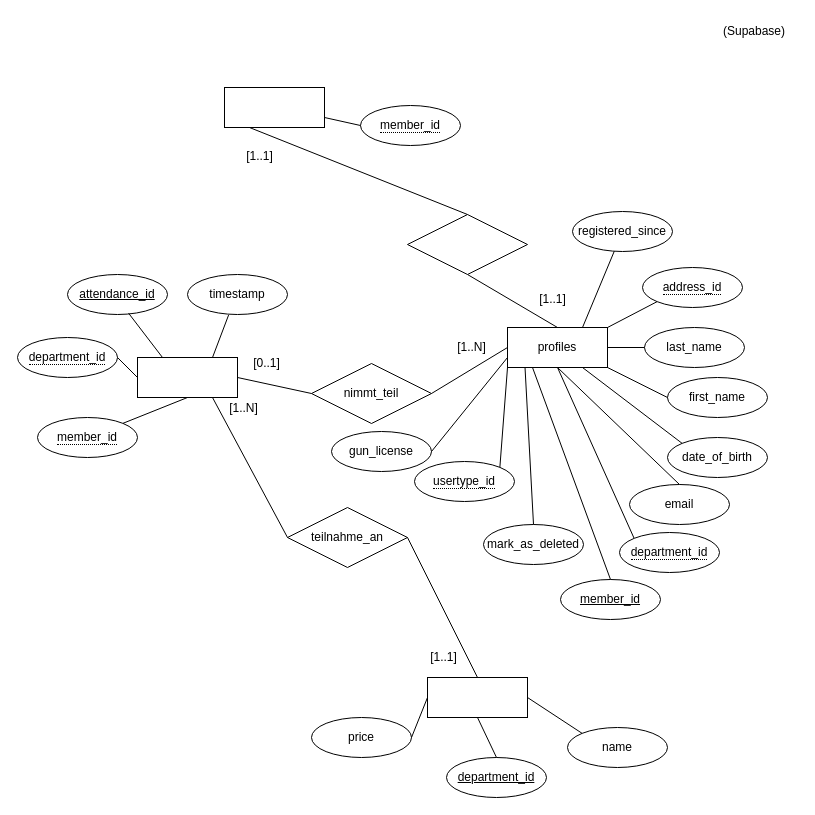
The diagram is 815 pixels wide and 815 high, and some of its shapes have lost their labels. Each missing label, with the centre of its shape:
attendances: [187,377]
auth.users: [274,107]
department: [477,697]
verifiziert_durch: [467,244]
